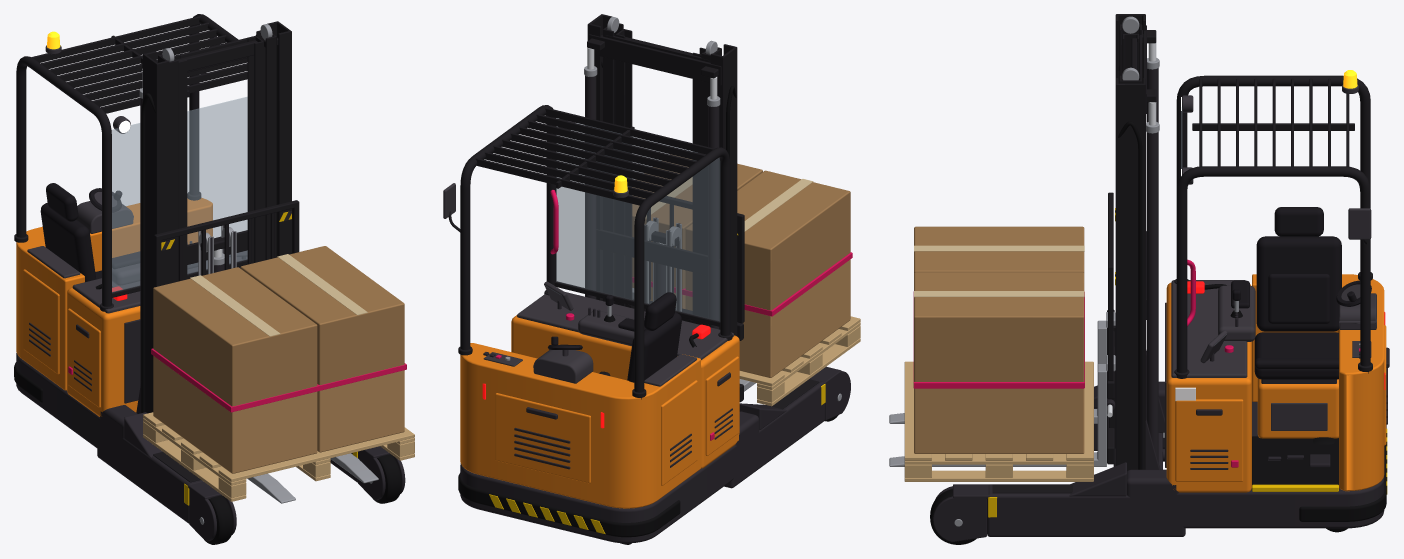
The model's file is reach.glb.
The picture shows the model from 3 angles, left to right: view 1: azimuth 30°, elevation 25°; view 2: azimuth 150°, elevation 25°; view 3: azimuth 270°, elevation 25°; orthographic projection. The views are drawn at different scales.
Visible parts, largest first — view 1: base, pal_top, rc_beam, m_inn, m_mid, tine, seat_base, load_w.001, load_w; view 2: base, pal_top, rc_beam, m_inn, m_mid, seat_base, tine; view 3: base, pal_top, rc_beam, seat_base, tine, m_mid, m_inn.
Boxes of the visible parts, x1,y1,x2,y2 form: base: [14, 14, 405, 541]; pal_top: [143, 246, 414, 501]; rc_beam: [136, 21, 291, 413]; m_inn: [174, 36, 263, 280]; m_mid: [142, 24, 278, 283]; tine: [154, 200, 378, 503]; seat_base: [40, 183, 101, 281]; load_w.001: [373, 454, 401, 503]; load_w: [204, 495, 232, 544]; base: [443, 105, 850, 543]; pal_top: [632, 154, 860, 406]; rc_beam: [584, 14, 737, 336]; m_inn: [615, 29, 705, 324]; m_mid: [587, 17, 721, 325]; seat_base: [599, 292, 681, 382]; tine: [627, 196, 755, 402]; base: [933, 70, 1389, 541]; pal_top: [904, 226, 1093, 481]; rc_beam: [1094, 14, 1164, 470]; seat_base: [1254, 207, 1341, 383]; tine: [889, 192, 1115, 466]; m_mid: [1119, 16, 1156, 125]; m_inn: [1122, 34, 1139, 80].
Size of the model in its own units: 1.34 by 2.65 by 2.64.
